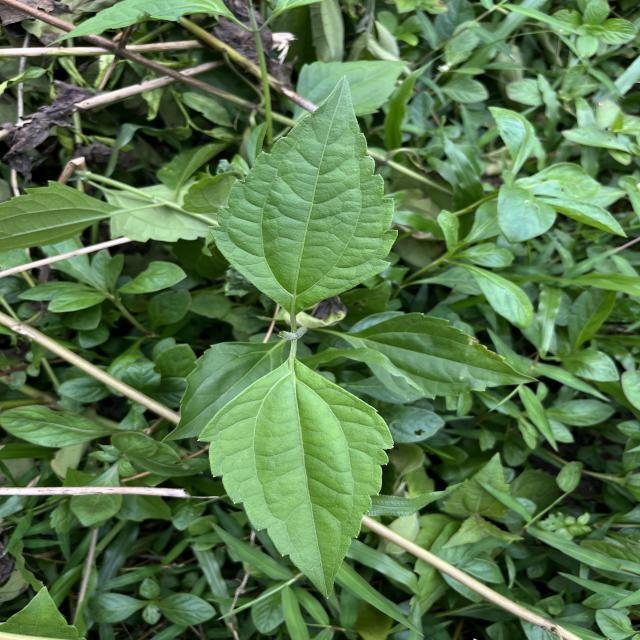Chromolaena odorata: (192, 356, 398, 602), (205, 71, 404, 312)
